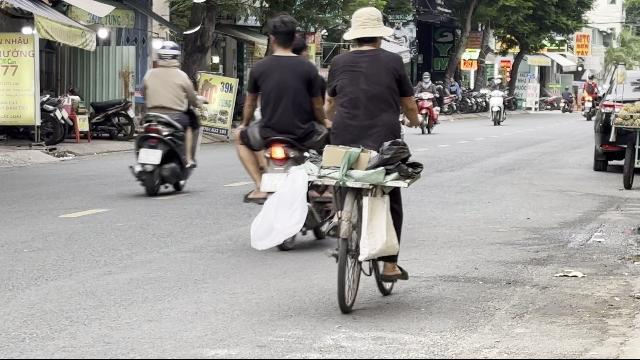helmet: (153, 41, 181, 67)
licenseplate: (138, 148, 162, 164)
motorcyclist: (232, 15, 332, 233), (128, 40, 202, 196)
nohelmet: (264, 13, 298, 52)
